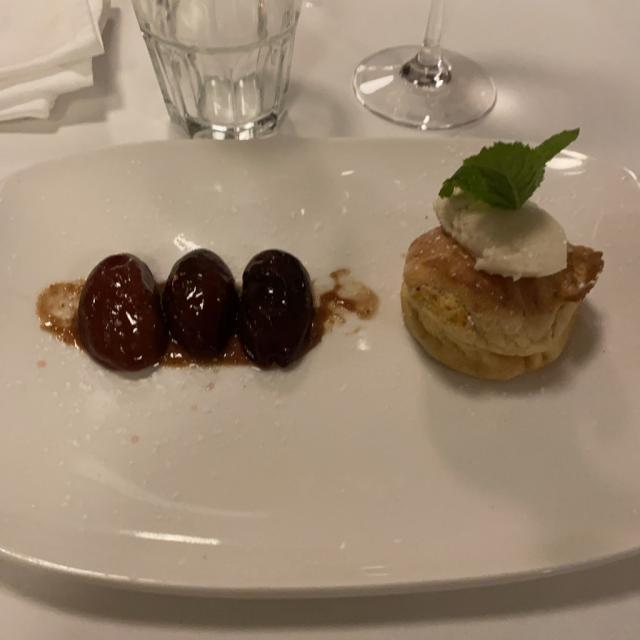cheese: (427, 193, 565, 280)
plums: (83, 248, 328, 369)
